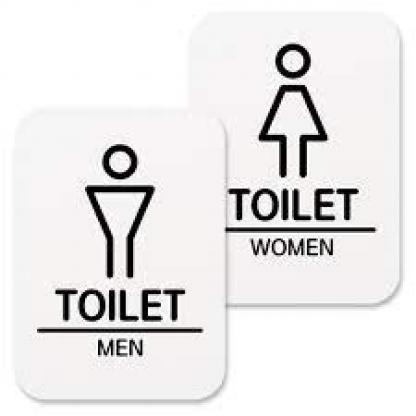toilet: (256, 43, 329, 176), (85, 142, 154, 280)
